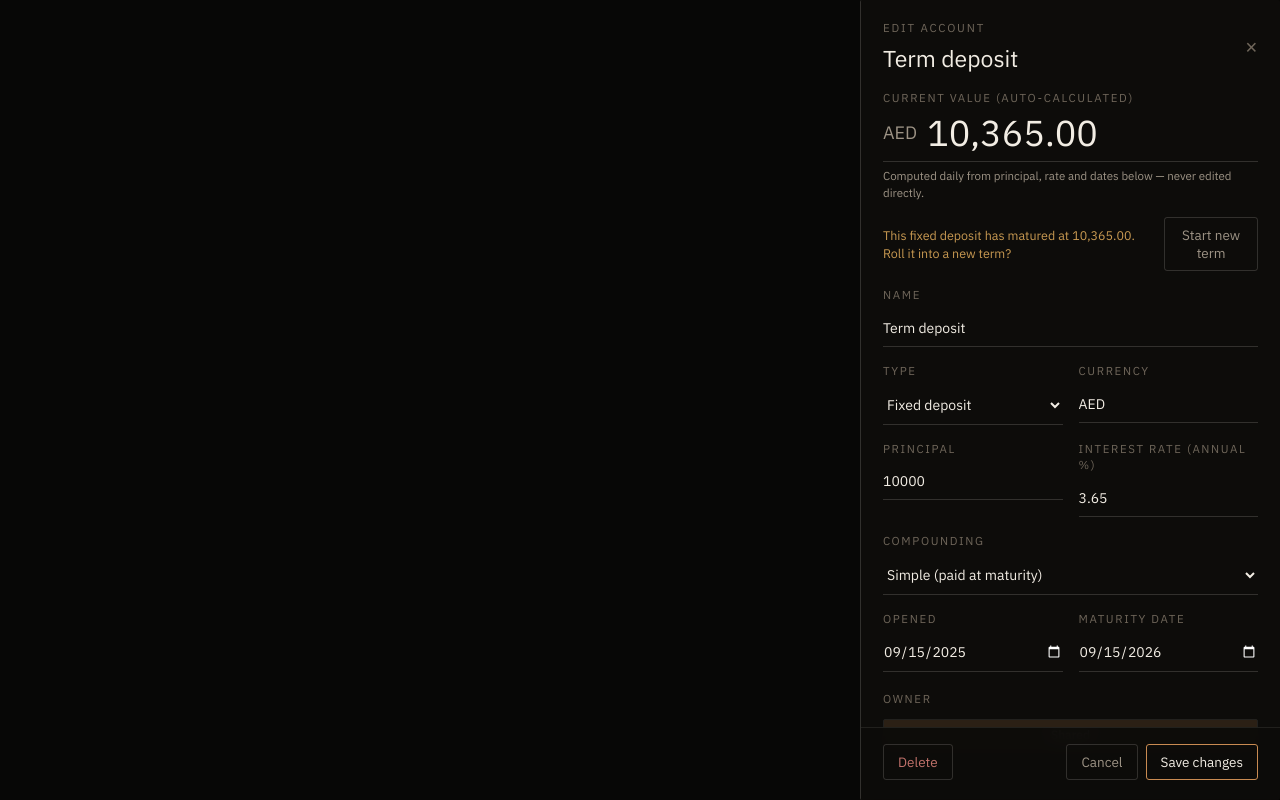
Test: forms default to the household's day, not UTC's › a matured deposit rolled into a new term
Click the button "Start new term".
click(1211, 244)  # box left=1164, top=217, right=1258, bottom=271
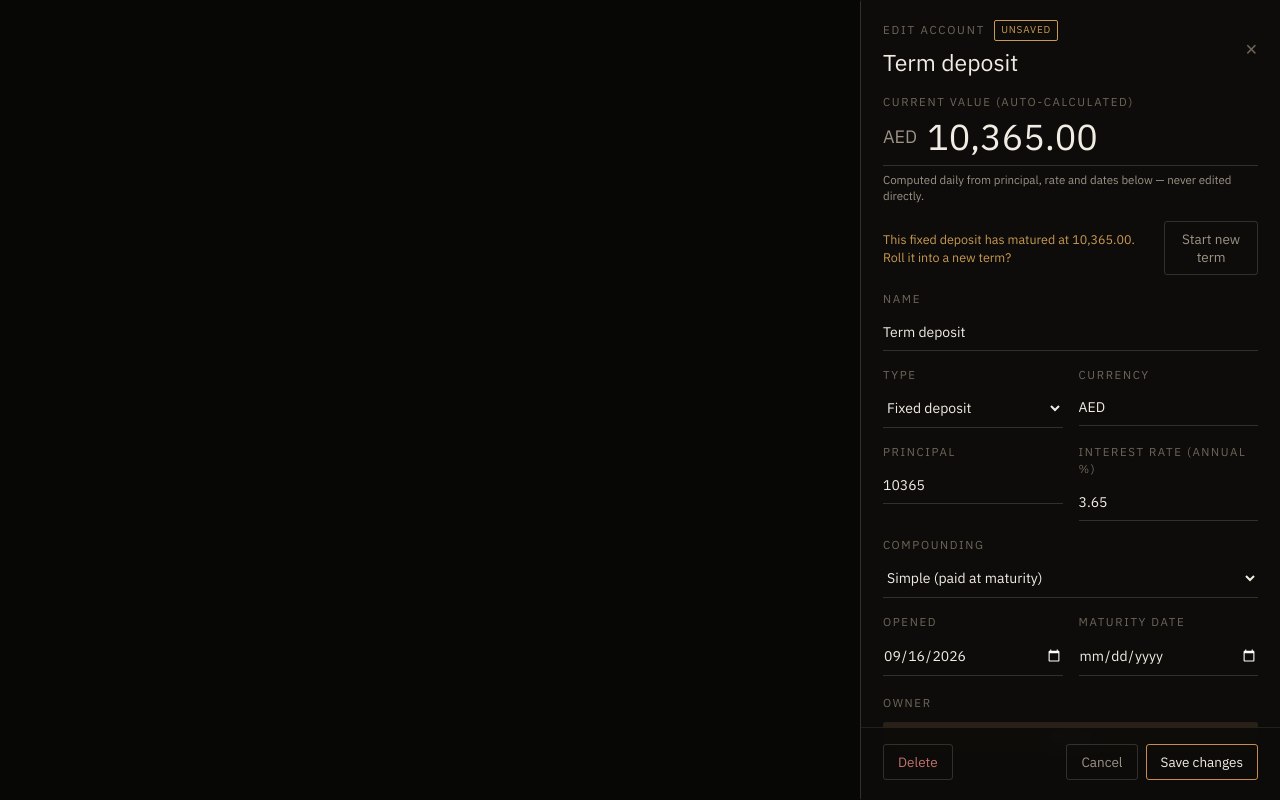
Result: the date field below "Opened" holds "2026-09-16" at left=883, top=637, right=1062, bottom=676
